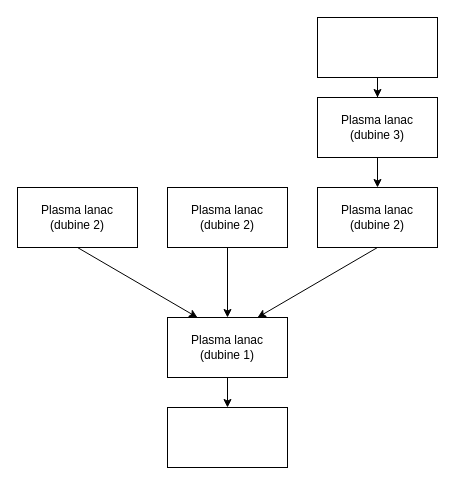
The diagram is 455 pixels wide and 485 high, and some of its shapes have lost their labels. The centre of each missing label's shape, as x and y in pixels:
"Alice 1 ETH" goes at (377,47).
"Glavni lanac (npr. Ethereum)" goes at (227,437).
